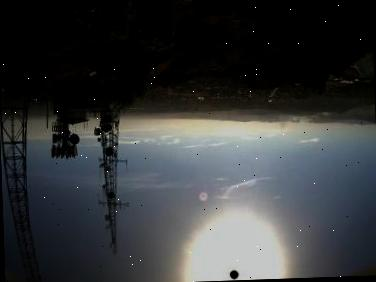smoke: (277, 111, 331, 134)
